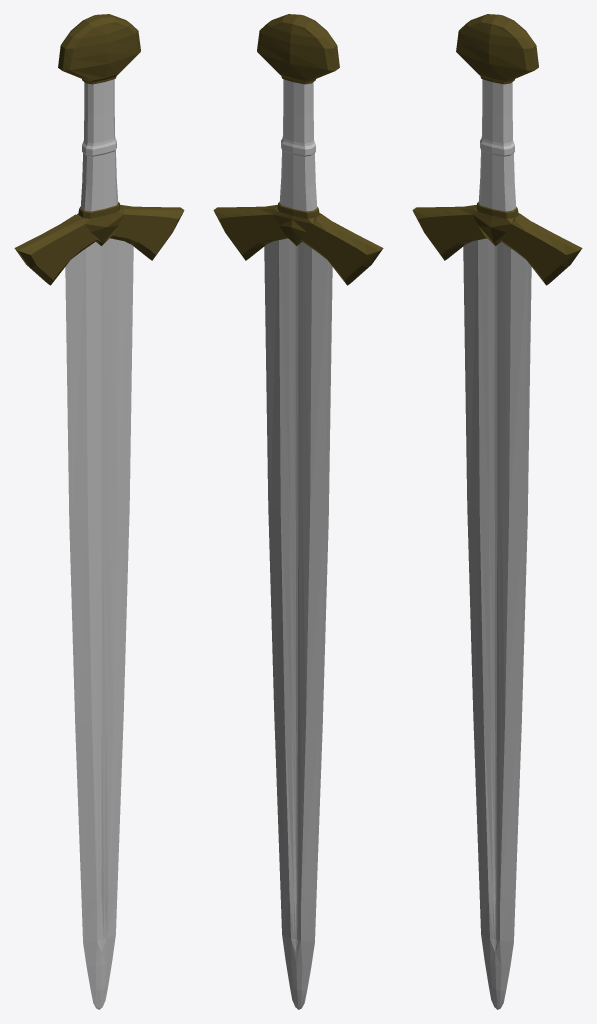
The model's file is sword.obj.
3 views of the same model, side by side, from view 1: azimuth 30°, elevation 25°; view 2: azimuth 150°, elevation 25°; view 3: azimuth 330°, elevation 25° (orthographic).
Bounding box in the file's own units: 0.6315 × 3.6 × 0.1145.
